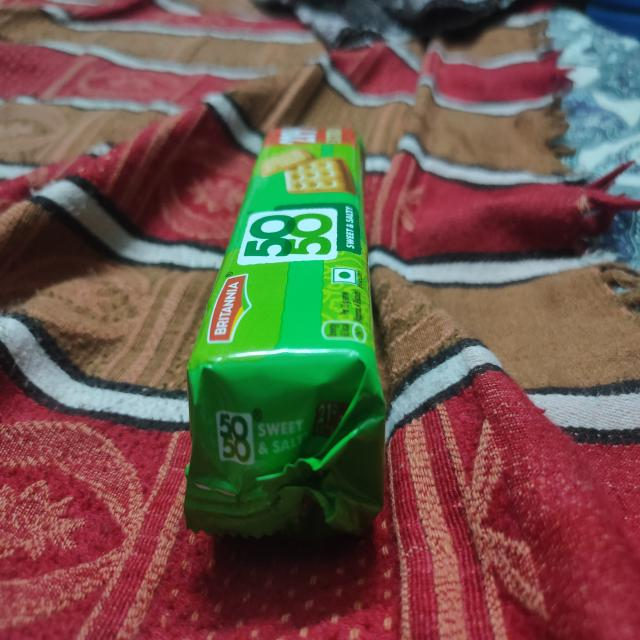biscuit: (193, 126, 379, 548)
